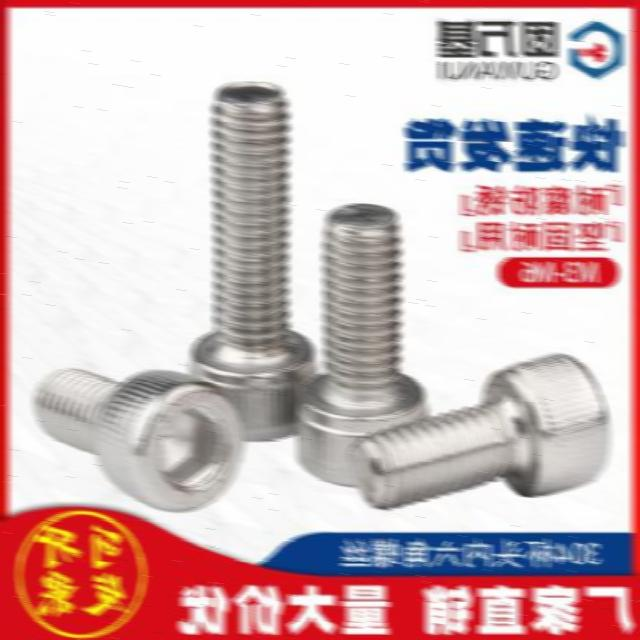Bolt: (184, 79, 318, 446), (349, 351, 612, 511), (291, 202, 431, 488), (31, 363, 247, 514)
